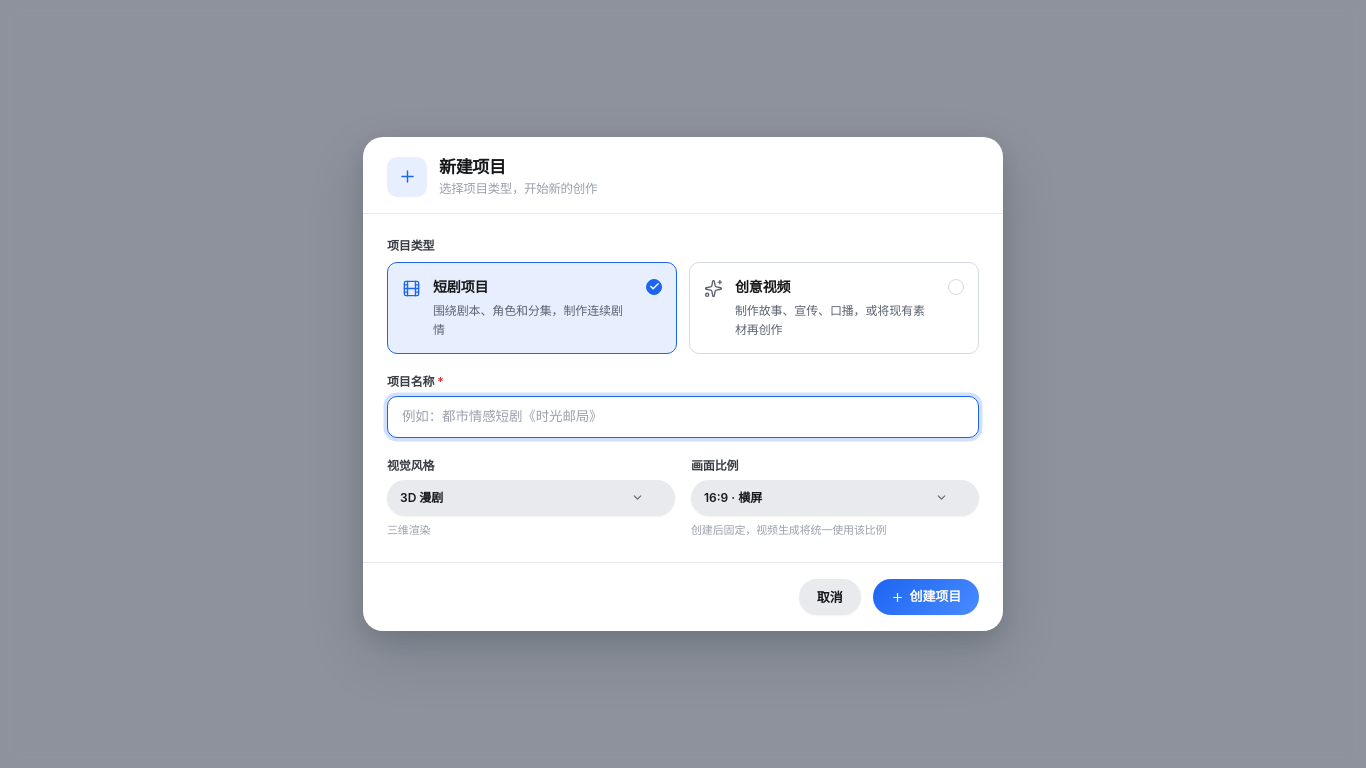
CreateProjectDialog selections › does not select an option while confirming IME input ({"isComposing":true})
The width and height of the screenshot is (1366, 768).
Click the button named "视觉风格" at (422, 497), box x1=387 y1=480 x2=675 y2=516
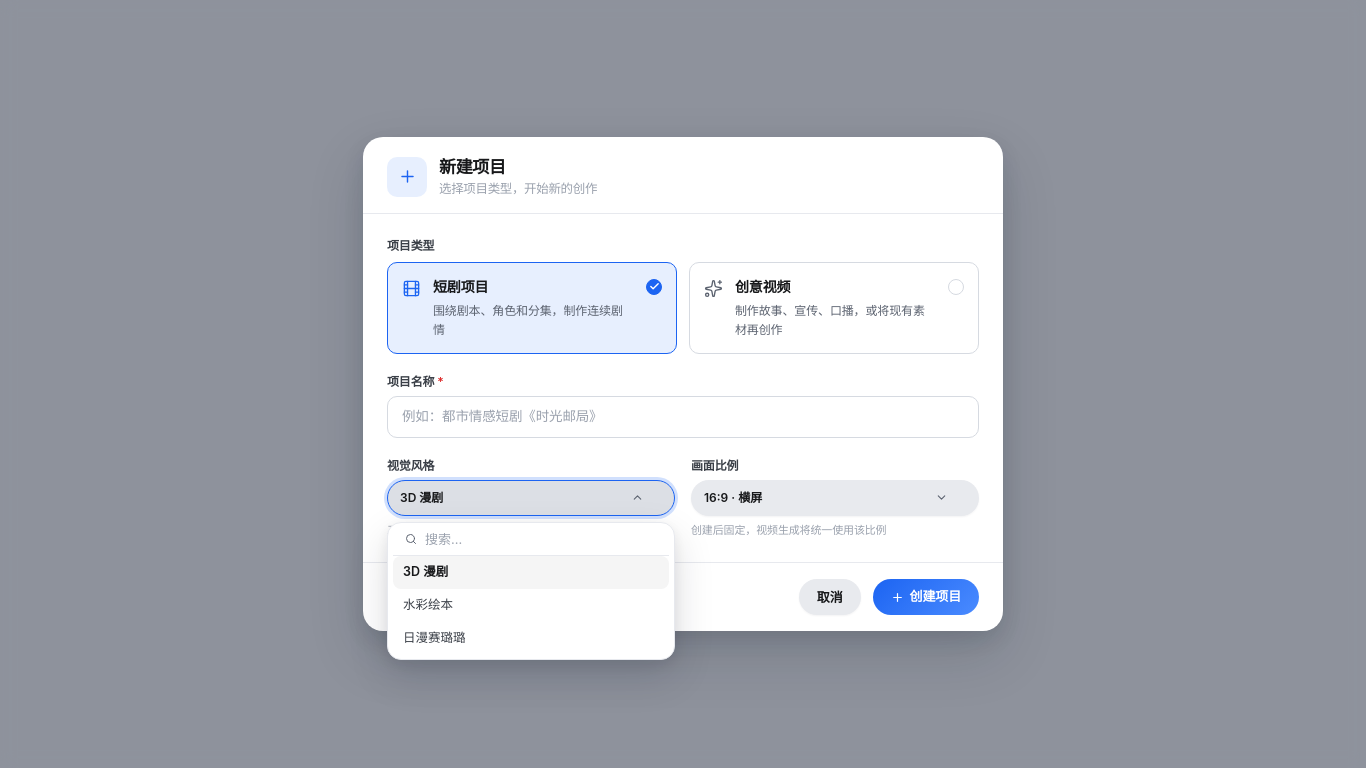
Type "水彩" into the field with placeholder "搜索..." at (541, 539), box x1=425 y1=531 x2=657 y2=547
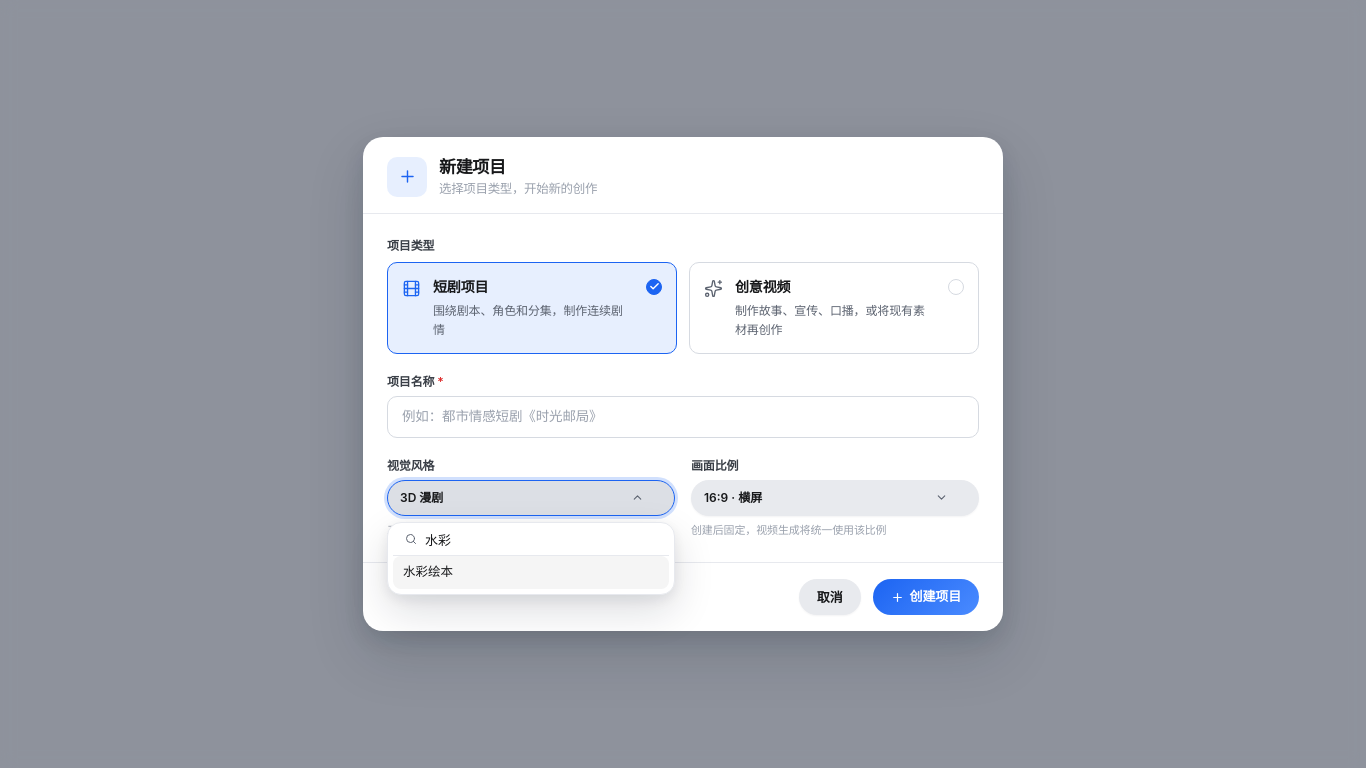
Press Enter in the field with placeholder "搜索...", box x1=425 y1=531 x2=657 y2=547
Expected: the button named "视觉风格" reads "3D 漫剧", x1=387 y1=480 x2=675 y2=516
Now the menu is shown, box x1=387 y1=522 x2=675 y2=595
Press Enter in the field with placeholder "搜索...", box x1=425 y1=531 x2=657 y2=547
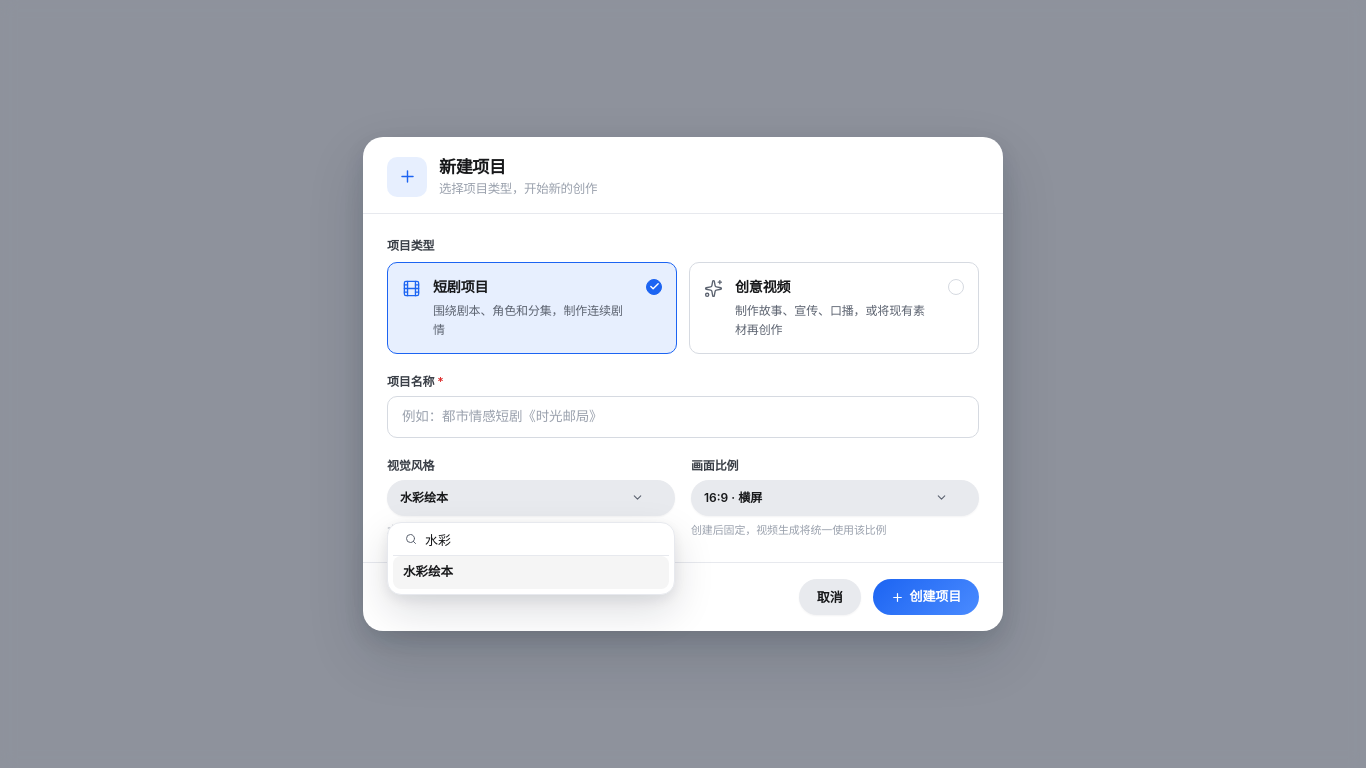
Now the button named "视觉风格" reads "水彩绘本", box x1=387 y1=480 x2=675 y2=516
